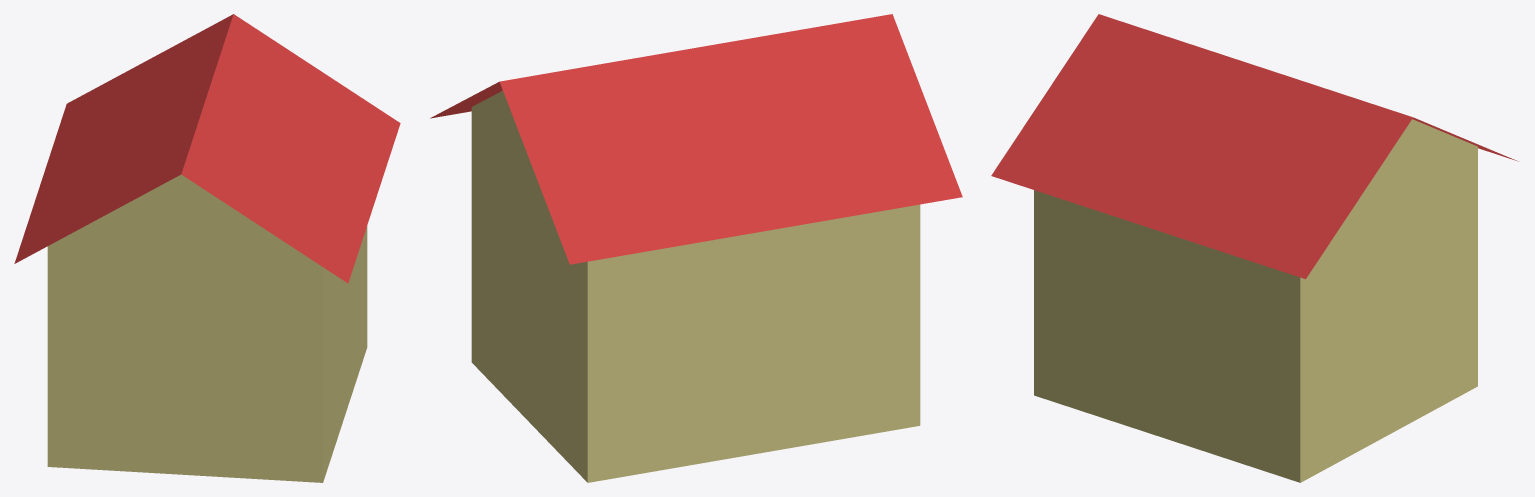
The picture shows the model from 3 angles, left to right: view 1: azimuth 30°, elevation 25°; view 2: azimuth 150°, elevation 25°; view 3: azimuth 270°, elevation 25°; orthographic projection. The views are drawn at different scales.
Visible parts, largest first — view 1: group_5, group_3, group_4; view 2: group_5, group_3, group_4; view 3: group_5, group_3, group_4.
Boxes of the visible parts, x1,y1,x2,y2 form: group_5: (47,174,367,482); group_3: (14,14,400,283); group_4: (14,14,400,263); group_5: (471,90,920,482); group_3: (430,14,960,264); group_4: (433,14,962,208); group_5: (1034,119,1477,482); group_3: (991,14,1430,278); group_4: (1096,14,1518,278).
Bounding box in the file's own units: 17.01 × 17.29 × 11.71.
